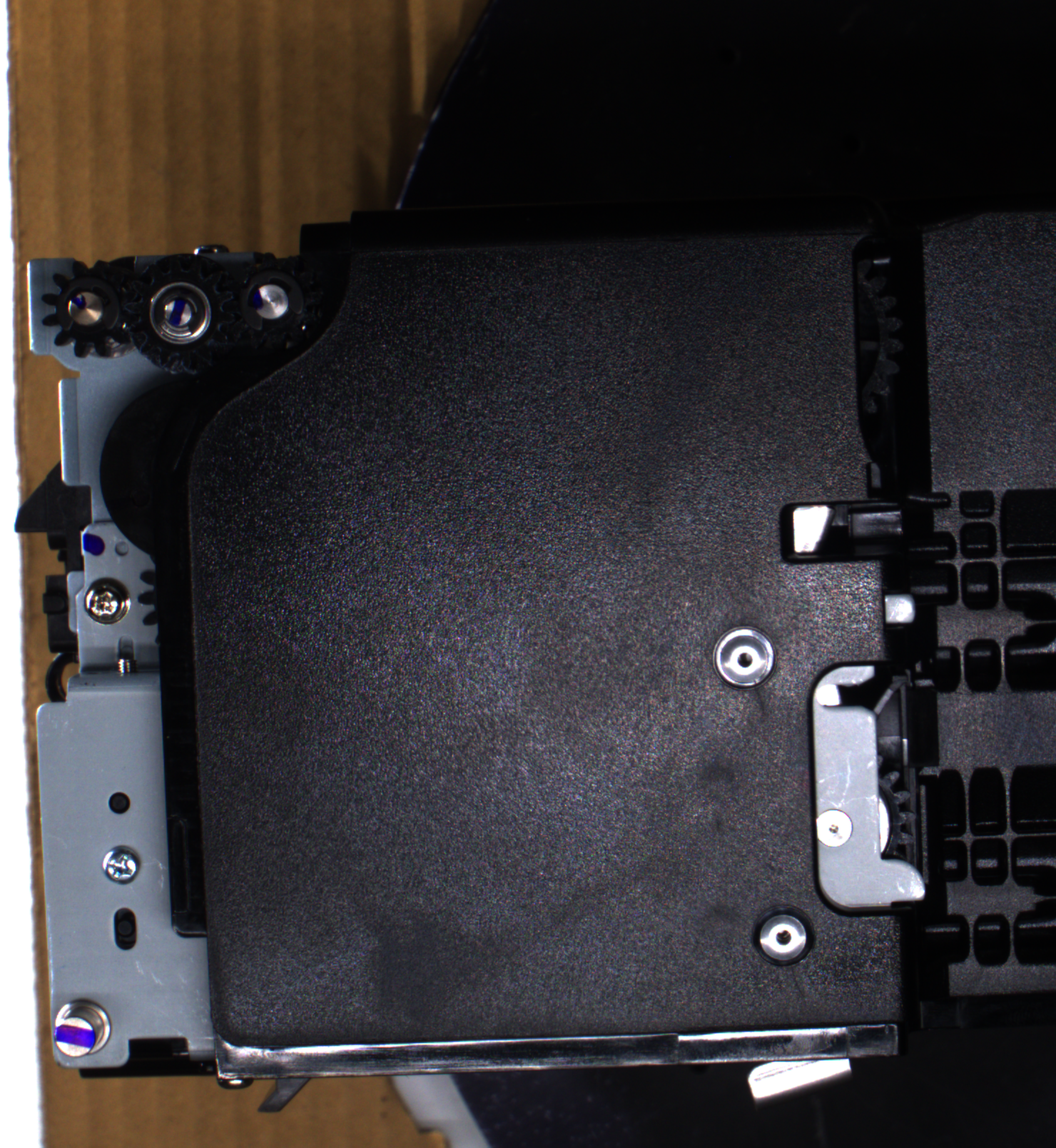centre_pin_presence: (740, 1042, 858, 1109)
centre_plate_presence: (804, 654, 938, 922)
centre_screw_presence: (708, 619, 781, 697), (746, 897, 819, 974)
gear1_presence: (39, 258, 141, 363)
gear2_presence: (123, 253, 235, 374)
gear3_presence: (216, 253, 317, 355)
side_screw_presence: (81, 574, 132, 626), (98, 843, 142, 885)
slanting_pin_presence: (50, 995, 120, 1064)
